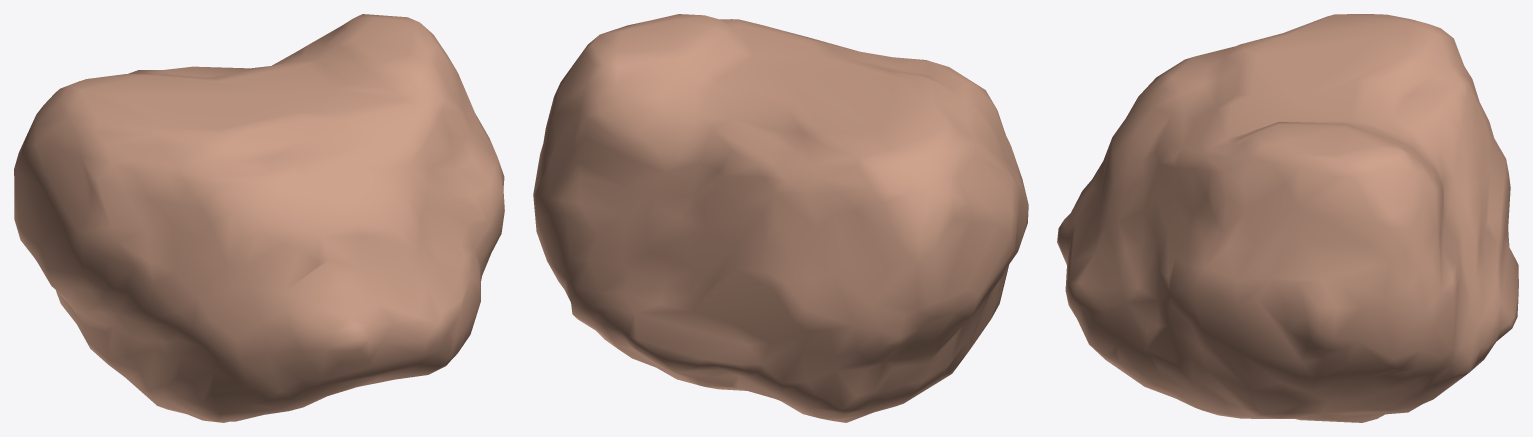
File: tsd_s0327_older_adult_male.reproductive.LOD1.glb
The picture shows the model from 3 angles, left to right: view 1: azimuth 30°, elevation 25°; view 2: azimuth 150°, elevation 25°; view 3: azimuth 270°, elevation 25°; orthographic projection. The views are drawn at different scales.
Parts seen in each view (by area): view 1: TSD_S0327.OLDER_ADULT.MALE.REPRODUCTIVE.PROSTATE; view 2: TSD_S0327.OLDER_ADULT.MALE.REPRODUCTIVE.PROSTATE; view 3: TSD_S0327.OLDER_ADULT.MALE.REPRODUCTIVE.PROSTATE.
Boxes of the visible parts, box(x1,y1,x2,y2) form: TSD_S0327.OLDER_ADULT.MALE.REPRODUCTIVE.PROSTATE: box(14, 14, 504, 422); TSD_S0327.OLDER_ADULT.MALE.REPRODUCTIVE.PROSTATE: box(533, 14, 1028, 422); TSD_S0327.OLDER_ADULT.MALE.REPRODUCTIVE.PROSTATE: box(1057, 14, 1518, 422).
Bounding box in the file's own units: 0.044 × 0.0288 × 0.0401.
